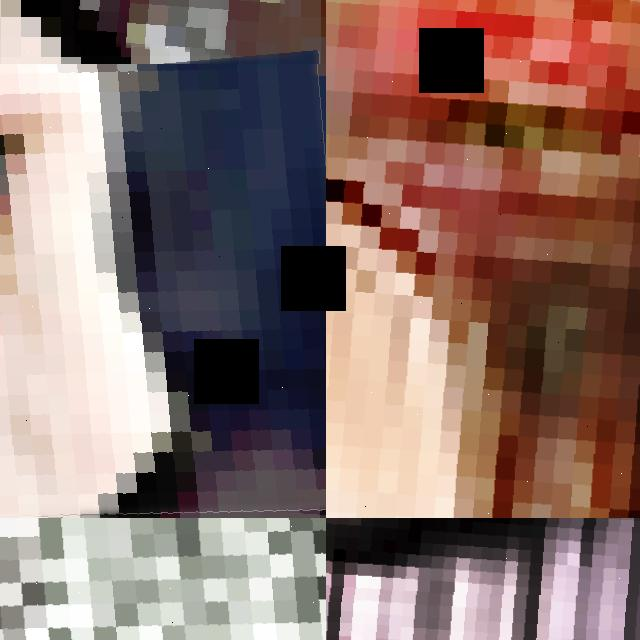arms: (326, 0, 640, 518), (0, 64, 326, 518), (0, 518, 326, 640), (326, 518, 640, 640), (33, 518, 326, 640), (74, 0, 289, 56)
